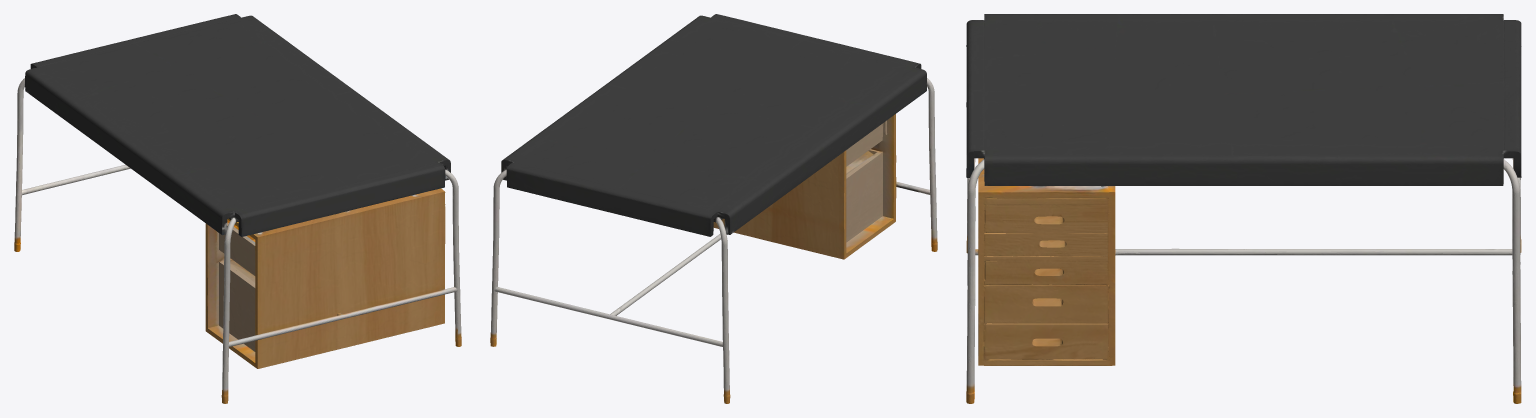
The picture shows the model from 3 angles, left to right: view 1: azimuth 30°, elevation 25°; view 2: azimuth 150°, elevation 25°; view 3: azimuth 270°, elevation 25°; orthographic projection. The views are drawn at different scales.
Visible parts, largest first — view 1: tripo_node_8e6bc653-2128-4c85-adaf-fcef464a5cbf; view 2: tripo_node_8e6bc653-2128-4c85-adaf-fcef464a5cbf; view 3: tripo_node_8e6bc653-2128-4c85-adaf-fcef464a5cbf.
Part boxes in pixels (<box>): tripo_node_8e6bc653-2128-4c85-adaf-fcef464a5cbf: <box>14,14,461,403</box>; tripo_node_8e6bc653-2128-4c85-adaf-fcef464a5cbf: <box>490,14,937,403</box>; tripo_node_8e6bc653-2128-4c85-adaf-fcef464a5cbf: <box>966,14,1521,403</box>.
Bounding box in the file's own units: 0.6552 × 0.481 × 1.
1 material, 1 textured.
